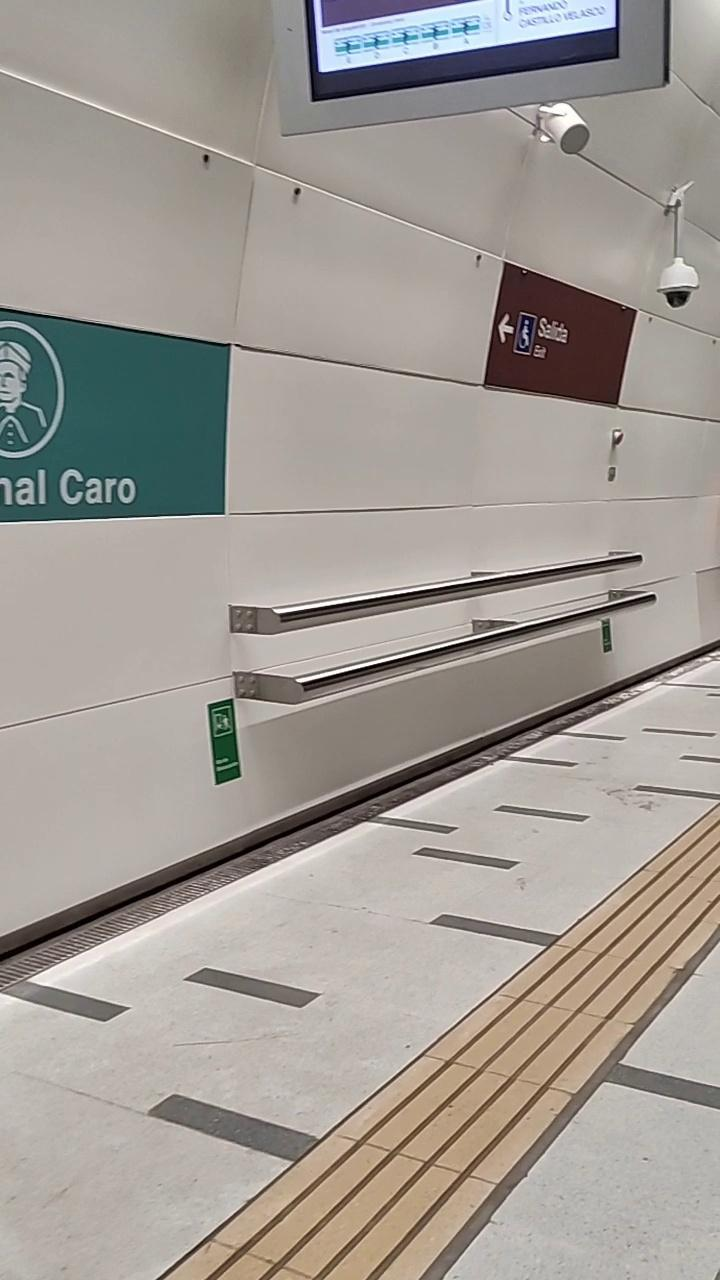handicapped symbol: (518, 319, 530, 349)
left arrow: (494, 310, 516, 346)
